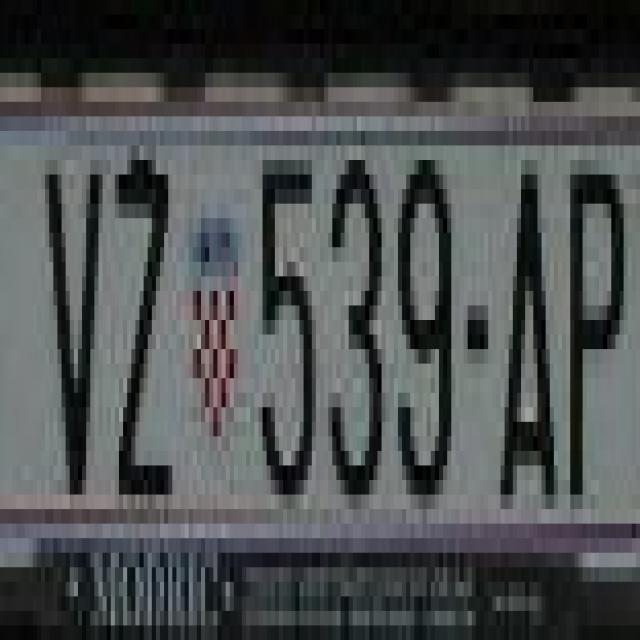3: (332, 101, 378, 524)
5: (254, 116, 320, 480)
9: (390, 131, 468, 509)
A: (500, 131, 550, 509)
P: (558, 160, 624, 524)
V: (32, 130, 98, 494)
Z: (119, 130, 168, 494)
